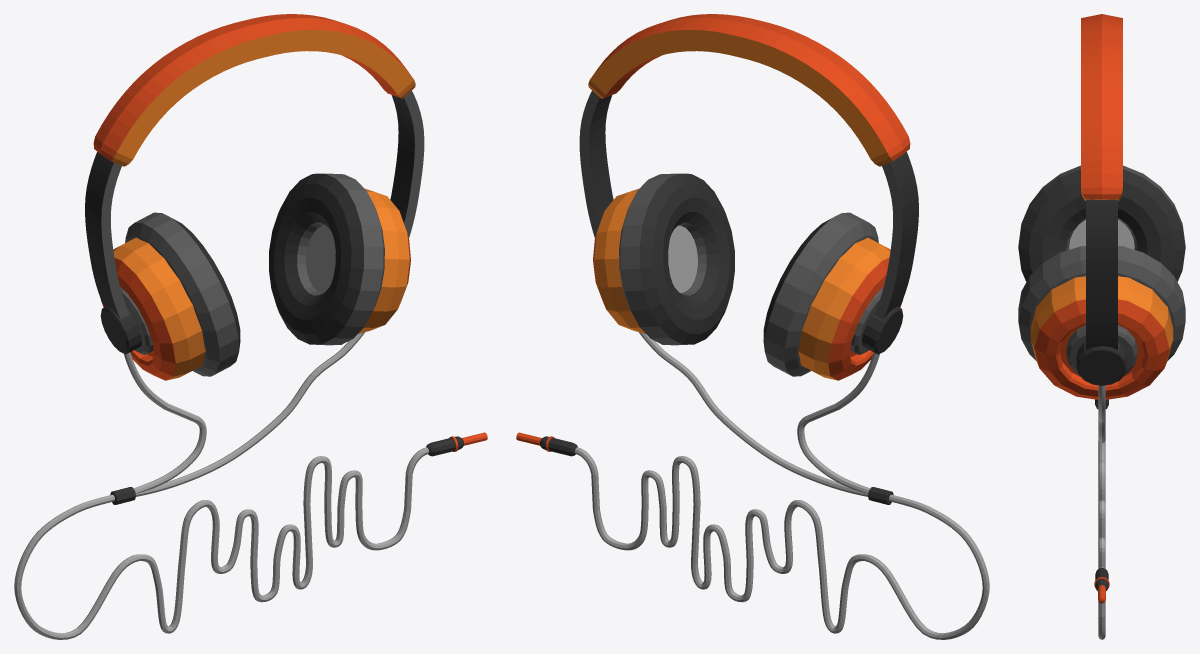
The model's file is headphones UVW.fbx.
The picture shows the model from 3 angles, left to right: view 1: azimuth 30°, elevation 25°; view 2: azimuth 150°, elevation 25°; view 3: azimuth 270°, elevation 25°; orthographic projection. The views are drawn at different scales.
Parts seen in each view (by area): view 1: cable; view 2: cable; view 3: cable.
Boxes of the visible parts, x1,y1,x2,y2 form: cable: (14, 14, 487, 639); cable: (516, 14, 989, 639); cable: (1018, 14, 1185, 639).
Bounding box in the file's own units: 103 × 122 × 32.41.
